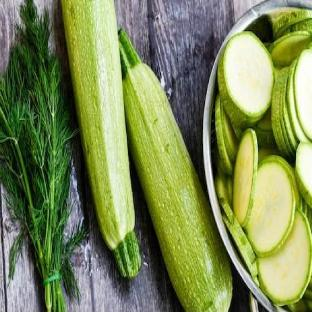Zucchini: (120, 30, 231, 310), (218, 32, 274, 128), (258, 210, 311, 304), (247, 156, 295, 256), (220, 198, 257, 277), (233, 128, 258, 227), (272, 68, 291, 158), (287, 60, 308, 141), (294, 50, 311, 140), (270, 32, 311, 68), (215, 95, 233, 175), (271, 9, 311, 39), (296, 143, 311, 206), (254, 107, 276, 147), (222, 110, 238, 161), (283, 17, 311, 34), (215, 174, 231, 203), (259, 148, 279, 163)
